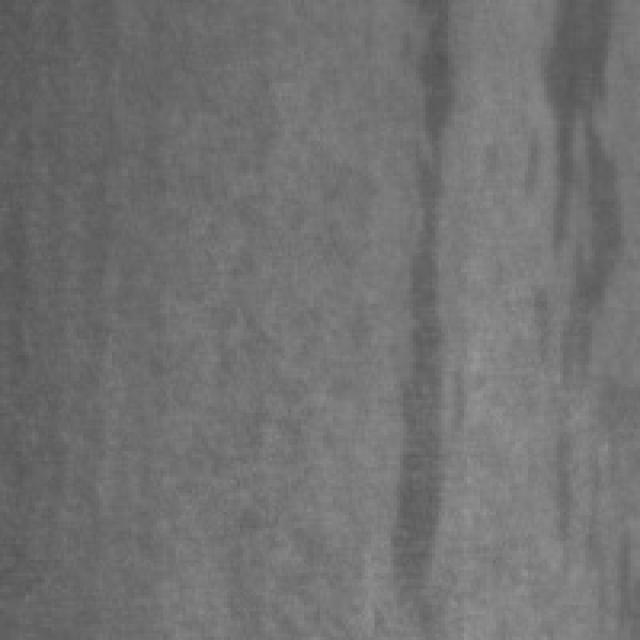inclusion: (378, 0, 464, 618), (534, 0, 618, 381), (550, 368, 630, 630)
